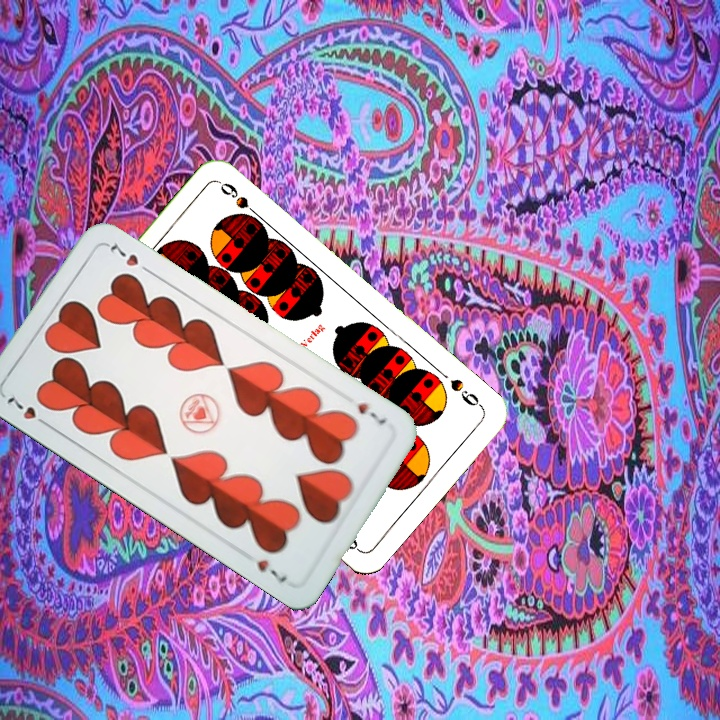H7: (2, 392, 53, 431), (353, 398, 389, 429)
S9: (446, 374, 486, 412)
